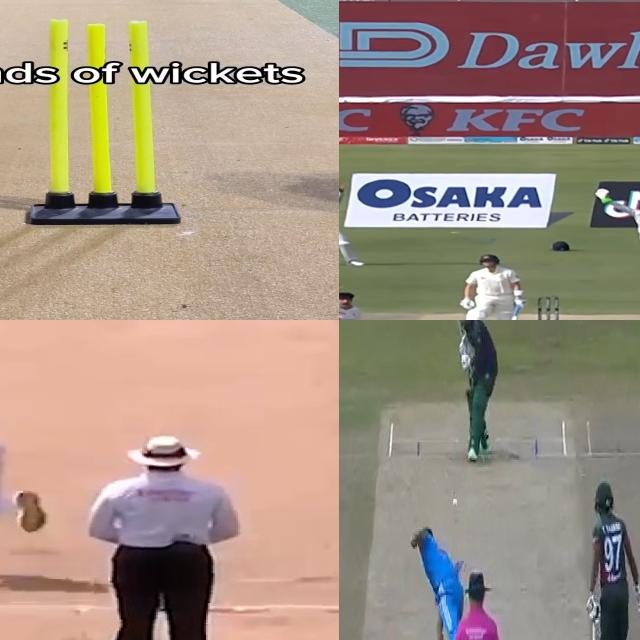Cricket ball: (452, 496, 458, 509)
Stumps: (536, 295, 559, 320)
